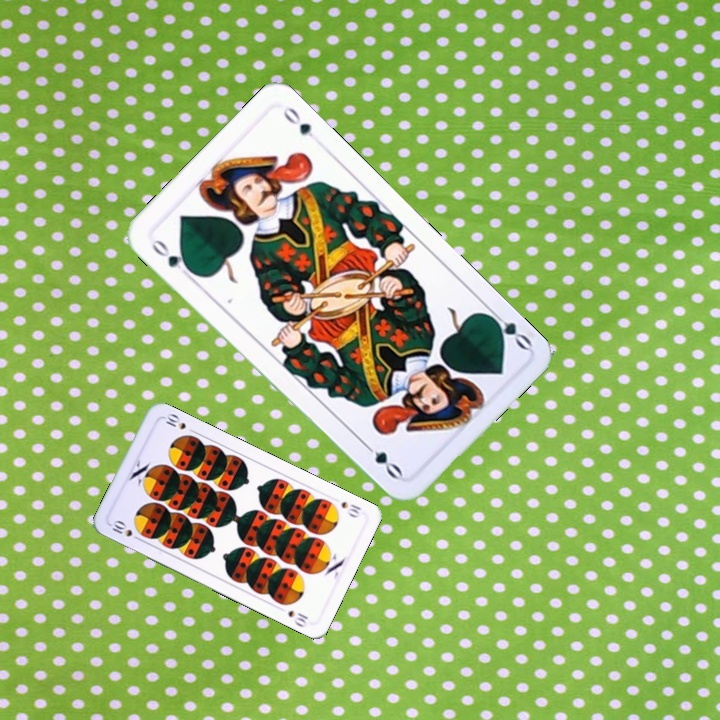GO: (482, 304, 534, 353), (147, 233, 196, 277)
S10: (106, 517, 144, 544), (337, 497, 364, 520)
